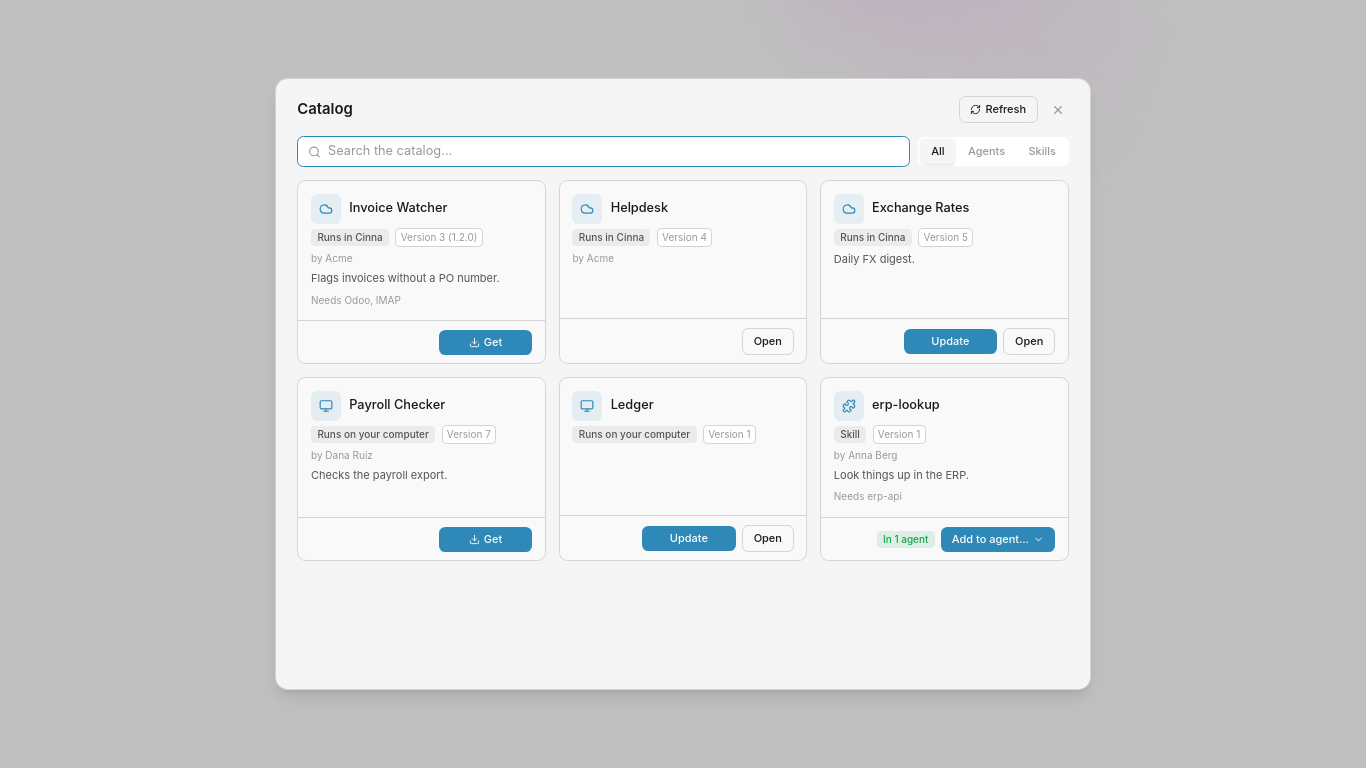
CatalogBrowserModal — In N agents › counts this computer’s kit agents by their own pins, not by an install core still lists
Expected: the 2nd button "Update" is shown, [642,526,736,551]
Expected: the text "In 1 agent" is shown, [877,531,935,548]
Click the button "erp-lookup" at (944, 448), box [821,378,1068,517]
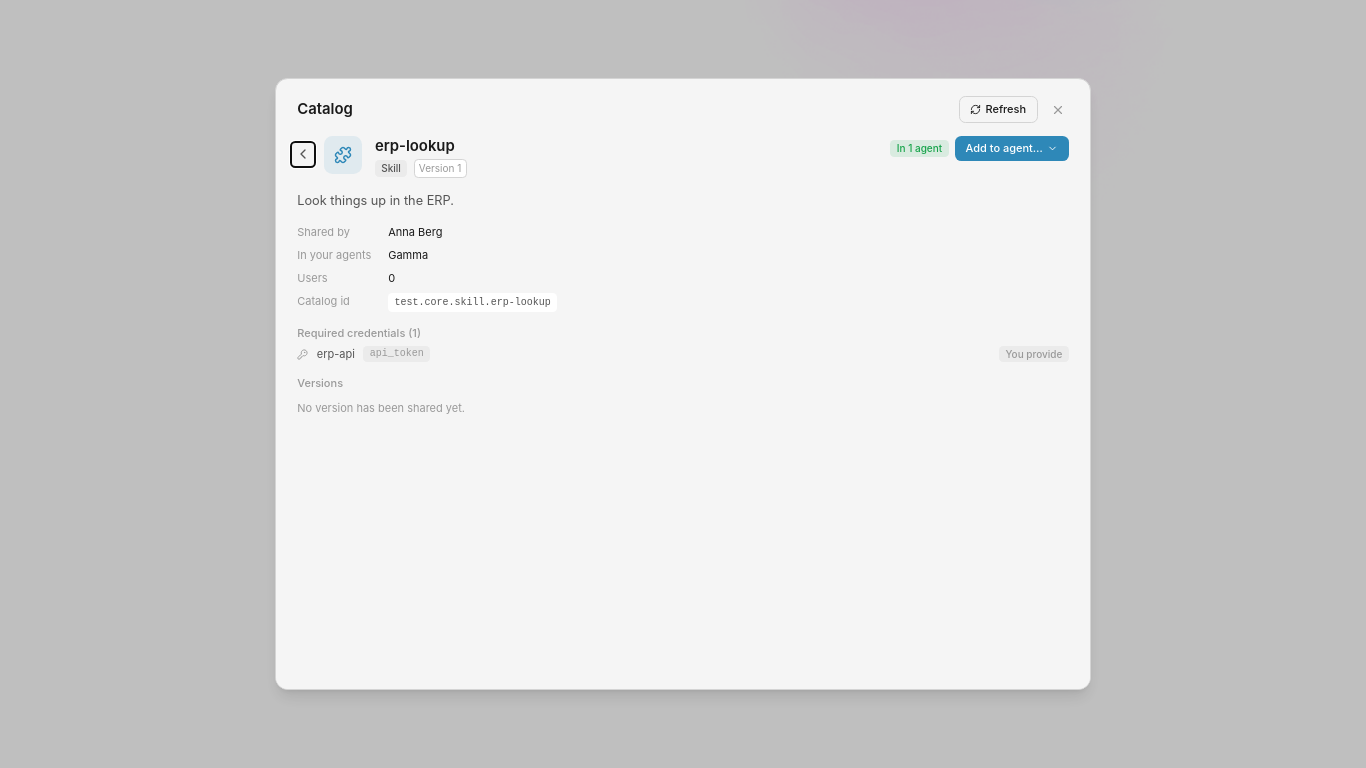
Expected: the text "Gamma" is shown, [388,248,428,262]
